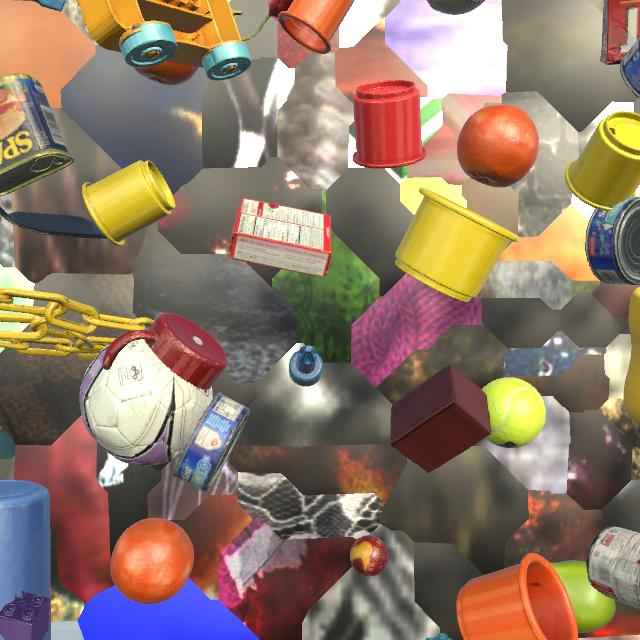ycb_003_cracker_box: (600, 0, 640, 65)
ycb_005_tomato_soup_can: (586, 527, 640, 610)
ycb_006_mustard_bottle: (623, 287, 640, 427)
ycb_007_tuna_fish_can: (173, 392, 250, 492), (585, 196, 640, 285), (620, 37, 640, 99)
ycb_009_gelatin_box: (228, 198, 332, 278)
ycb_010_potted_meat_can: (0, 73, 74, 197)
ycb_016_pear: (549, 560, 616, 633)
ycb_017_orange: (110, 518, 194, 604), (457, 104, 539, 188), (132, 61, 199, 86)
